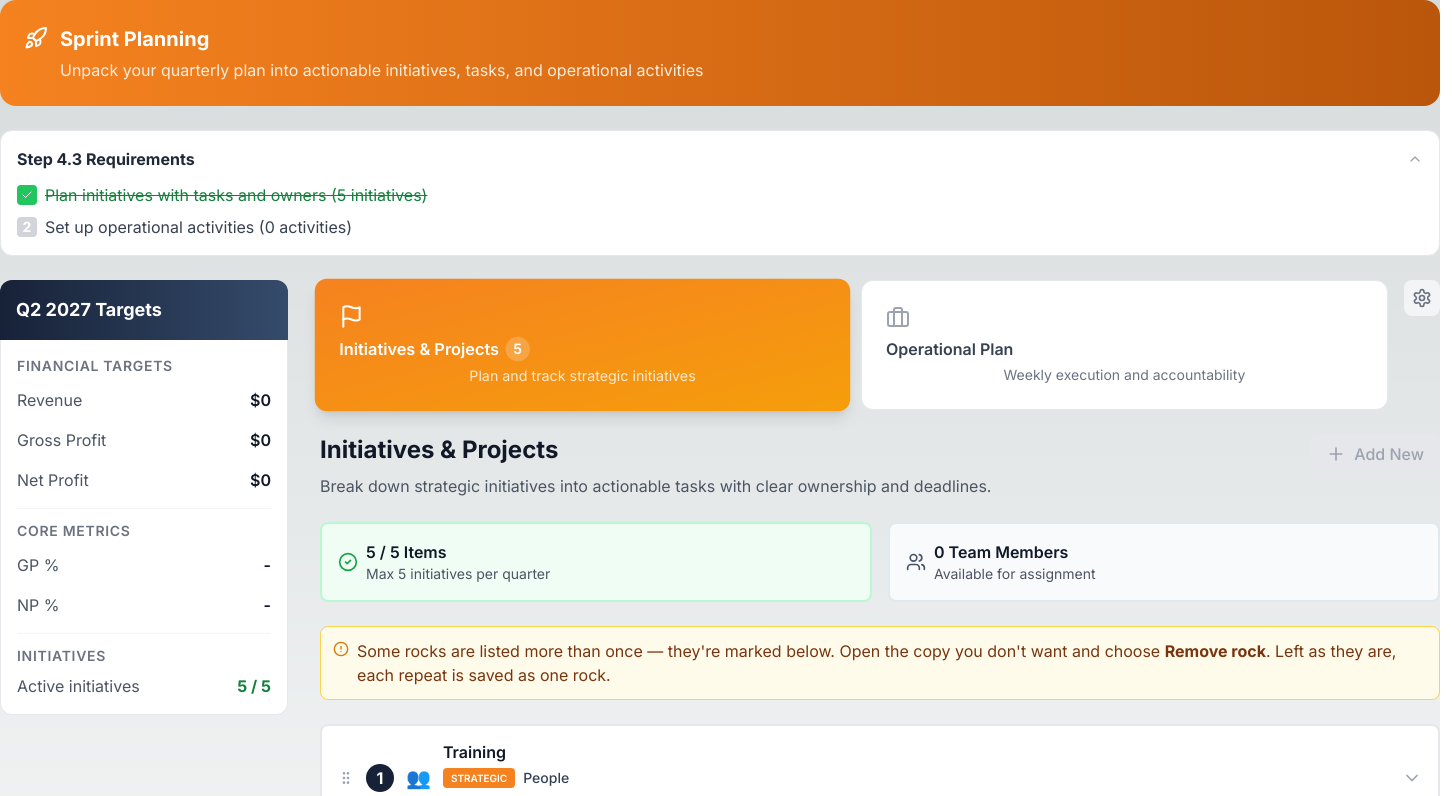
Test case: repeats are flagged, not merged › offers "Remove rock" on a rock that came from the plan, not only one added here
Click the heading "Training": (474,752) x1=443 y1=742 x2=506 y2=762
(page scrolled)
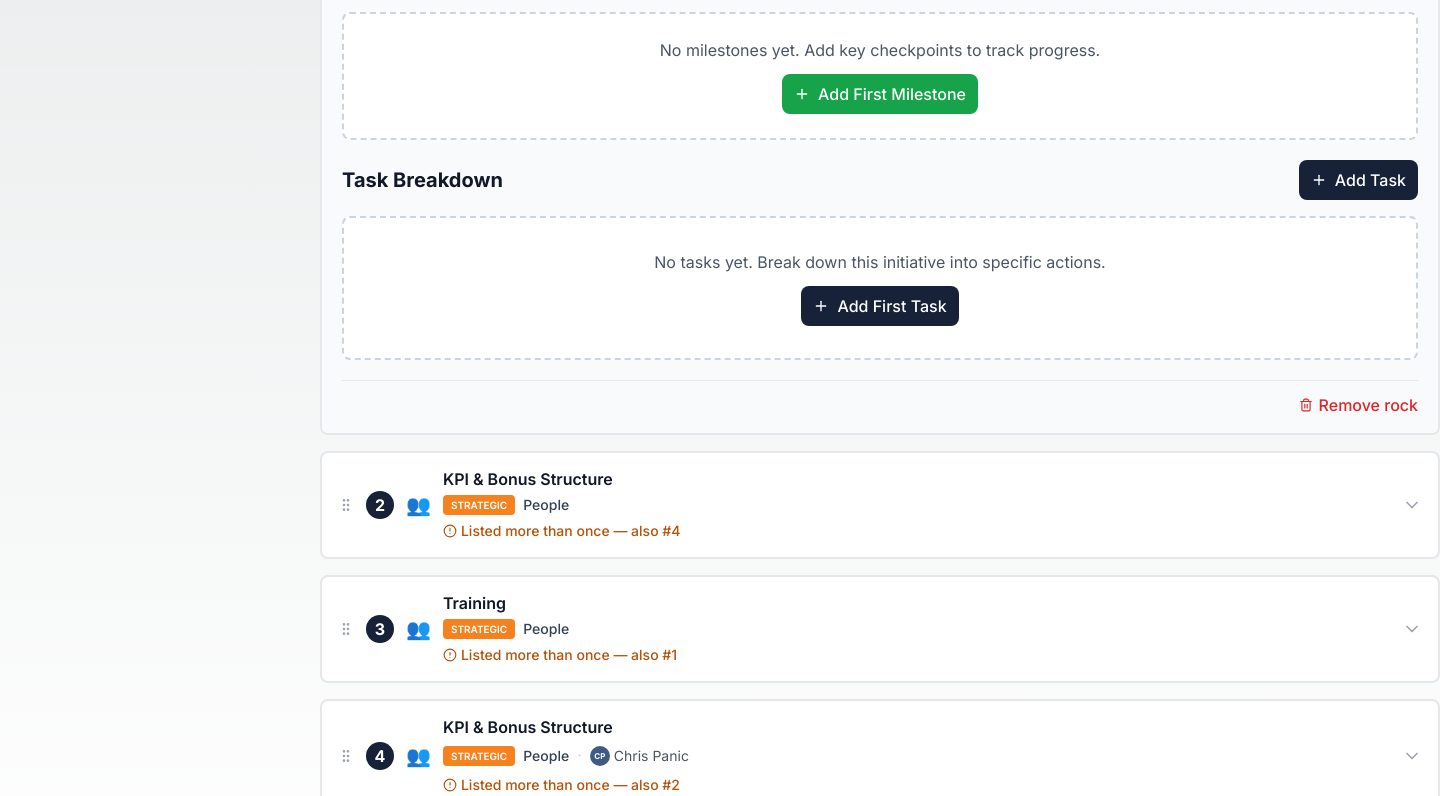
Result: the button "Remove rock" is shown at x1=1299 y1=393 x2=1418 y2=417
